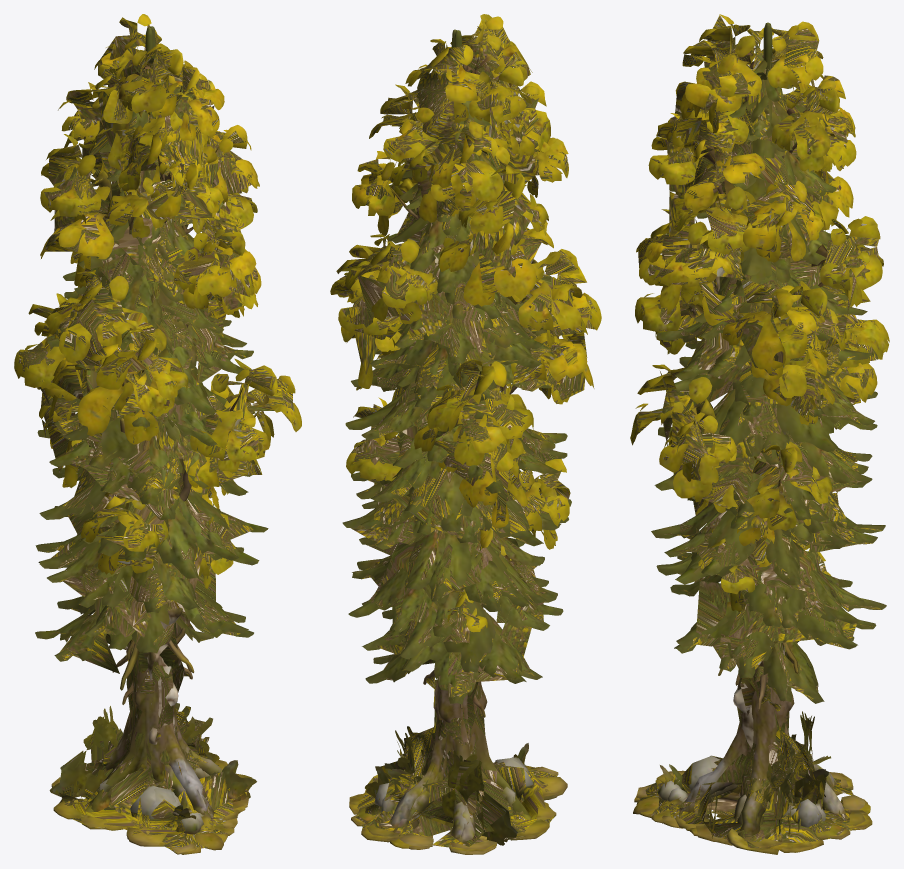
The model's file is tall.glb.
The picture shows the model from 3 angles, left to right: view 1: azimuth 30°, elevation 25°; view 2: azimuth 150°, elevation 25°; view 3: azimuth 270°, elevation 25°; orthographic projection.
Parts seen in each view (by area): view 1: tree_3_full, tree_0_full, tree_1_full, tree_2_full, tree_3_mid, tree_3_far, tree_0_far, tree_2_far, tree_1_far, tree_2_mid, tree_0_mid, tree_1_mid; view 2: tree_3_full, tree_0_full, tree_2_full, tree_1_full, tree_3_mid, tree_0_far, tree_2_far, tree_3_far, tree_1_far, tree_0_mid, tree_2_mid, tree_1_mid; view 3: tree_3_full, tree_0_full, tree_2_full, tree_1_full, tree_0_far, tree_3_mid, tree_3_far, tree_2_mid, tree_2_far, tree_0_mid, tree_1_far, tree_1_mid.
Part boxes in pixels (<box>): tree_3_full: <box>14,43,301,854</box>; tree_0_full: <box>35,26,268,852</box>; tree_1_full: <box>38,27,259,854</box>; tree_2_full: <box>39,14,261,826</box>; tree_3_mid: <box>15,48,295,834</box>; tree_3_far: <box>33,48,287,836</box>; tree_0_far: <box>42,62,253,829</box>; tree_2_far: <box>41,34,261,809</box>; tree_1_far: <box>51,41,248,852</box>; tree_2_mid: <box>41,20,258,800</box>; tree_0_mid: <box>50,63,246,830</box>; tree_1_mid: <box>56,67,258,848</box>; tree_3_full: <box>330,14,601,851</box>; tree_0_full: <box>348,29,571,854</box>; tree_2_full: <box>337,20,594,839</box>; tree_1_full: <box>342,30,568,849</box>; tree_3_mid: <box>333,17,596,839</box>; tree_0_far: <box>357,122,559,846</box>; tree_2_far: <box>348,36,587,836</box>; tree_3_far: <box>334,26,584,840</box>; tree_1_far: <box>350,45,558,847</box>; tree_0_mid: <box>357,117,550,844</box>; tree_2_mid: <box>338,31,592,815</box>; tree_1_mid: <box>345,64,555,836</box>; tree_3_full: <box>630,14,889,854</box>; tree_0_full: <box>652,24,877,852</box>; tree_2_full: <box>642,21,877,850</box>; tree_1_full: <box>633,22,886,848</box>; tree_0_far: <box>670,48,860,842</box>; tree_3_mid: <box>631,16,887,848</box>; tree_3_far: <box>637,15,883,842</box>; tree_2_mid: <box>644,28,873,830</box>; tree_2_far: <box>662,42,849,842</box>; tree_0_mid: <box>672,47,872,840</box>; tree_1_far: <box>636,64,882,839</box>; tree_1_mid: <box>637,69,875,847</box>.
Bounding box in the file's own units: 0.2985 × 1 × 0.2975.
Materials: 1 (1 with a texture image).
